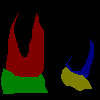gonna: (0, 68, 48, 94), (61, 66, 92, 90)
maglia: (5, 11, 44, 77), (65, 38, 94, 78)
